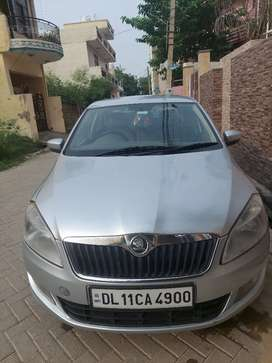DL11CA4900: (90, 285, 193, 308)
